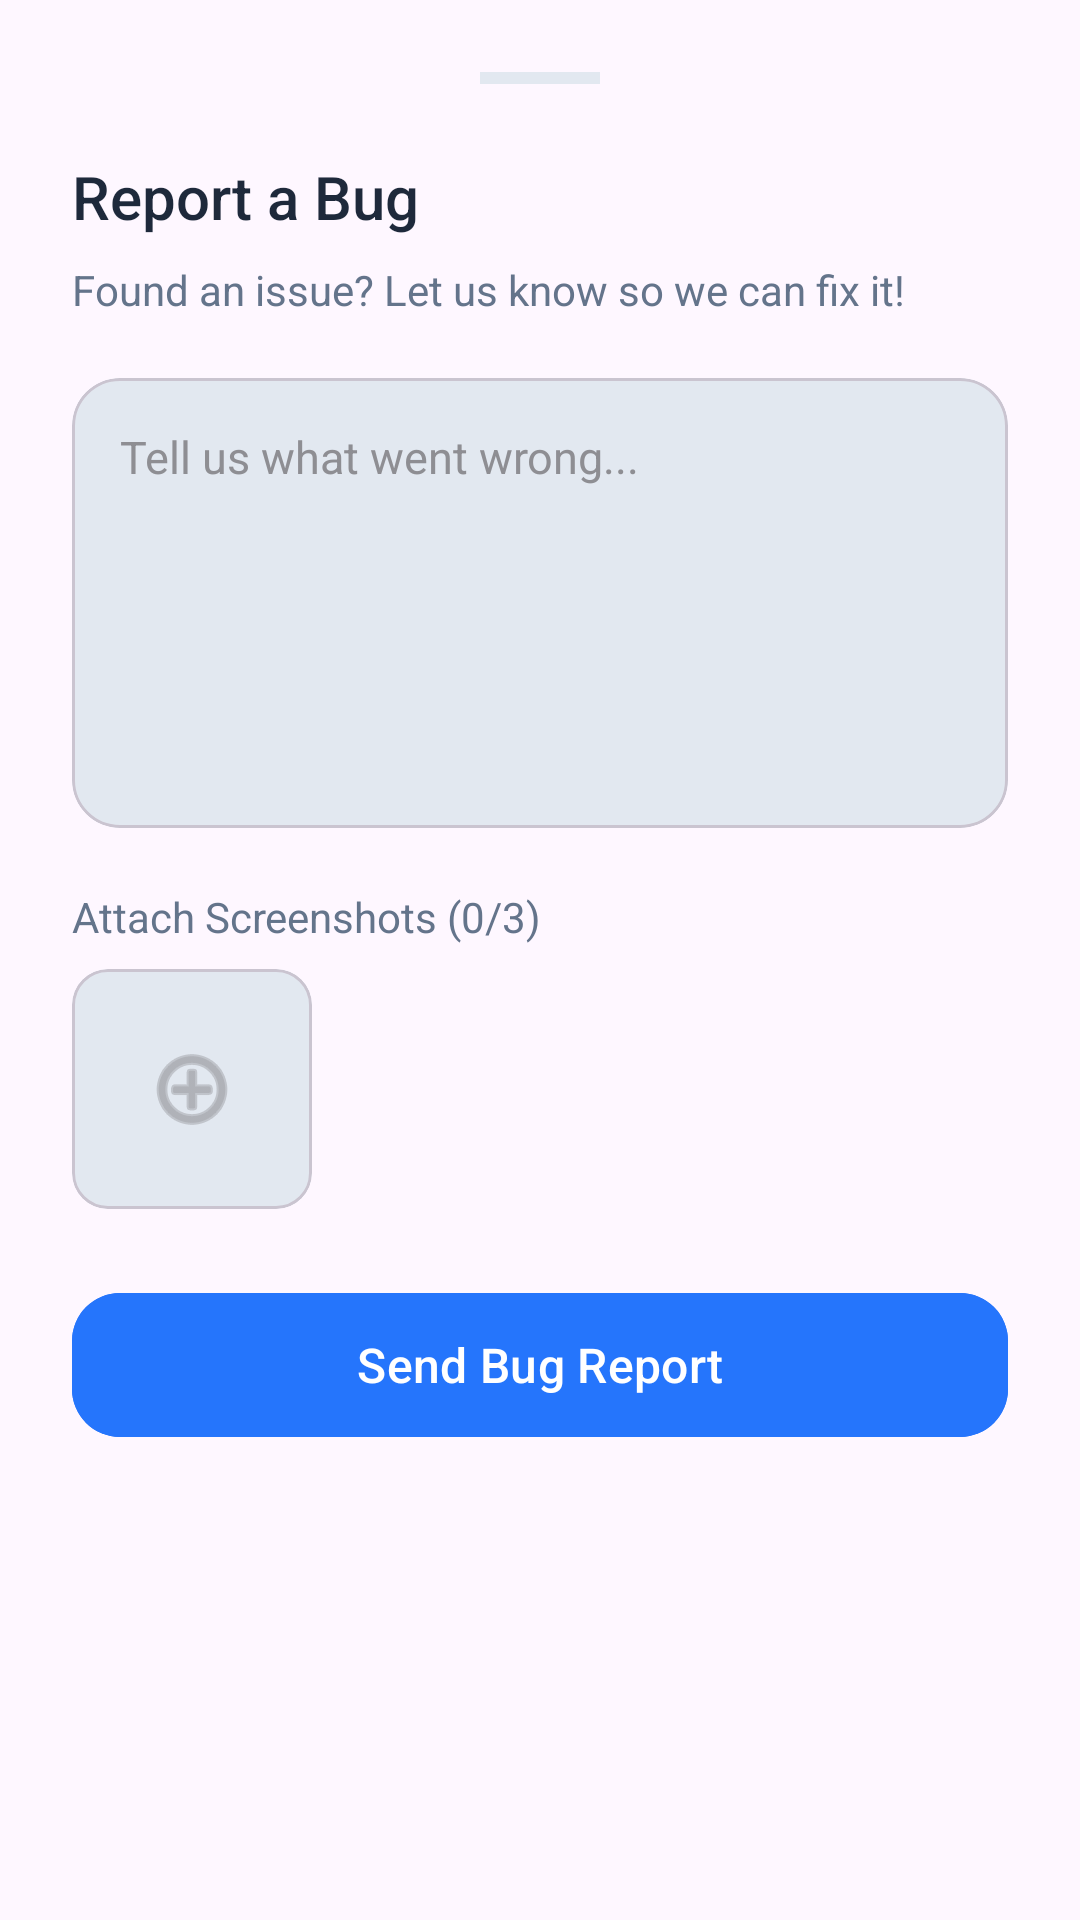

Icon bounding boxes for this 1080px x 1920px phone screenshot, format (x1, y1, x2, y2):
add: (157, 1054, 227, 1125)
